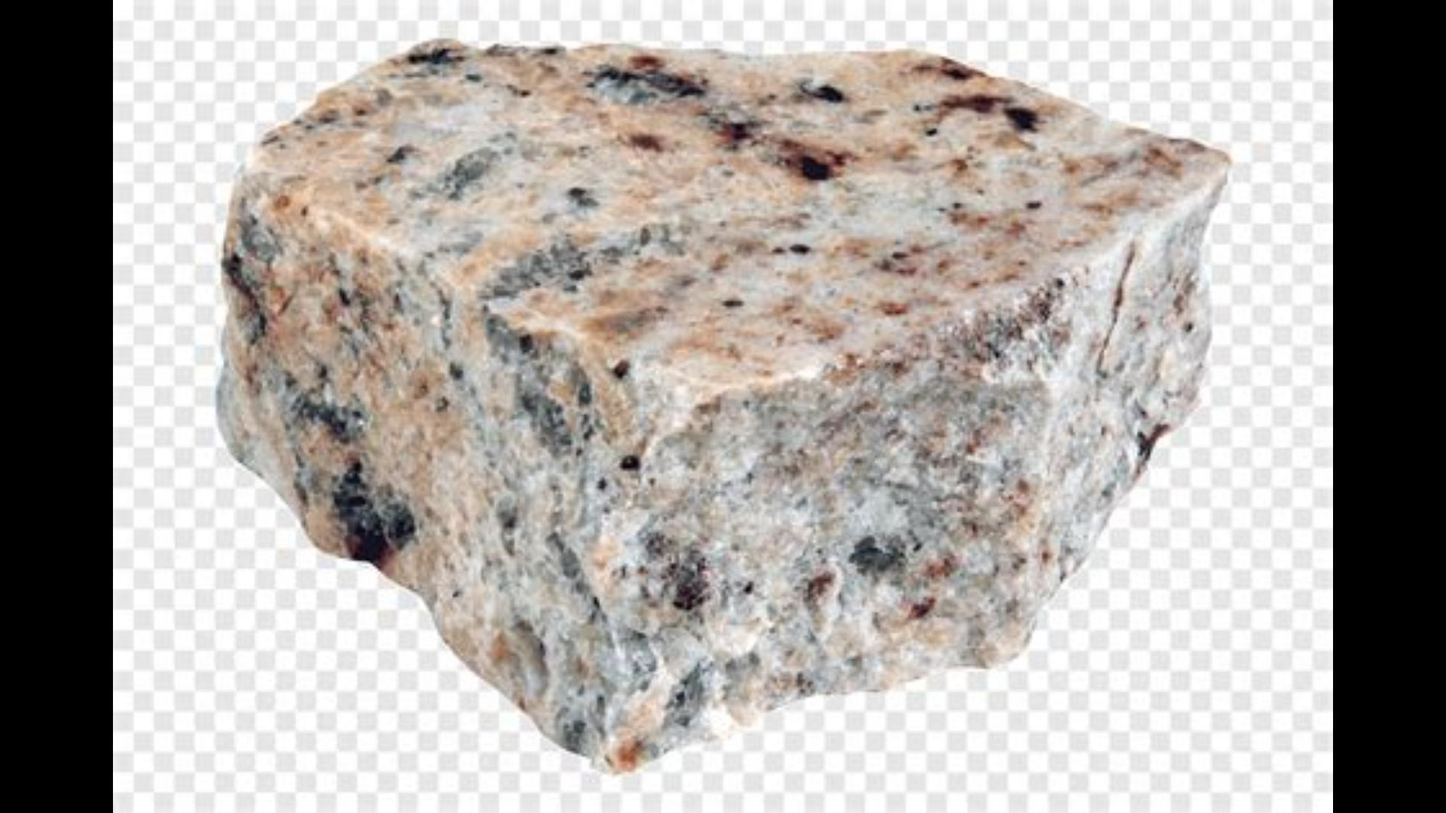rock: (221, 41, 1225, 767)
